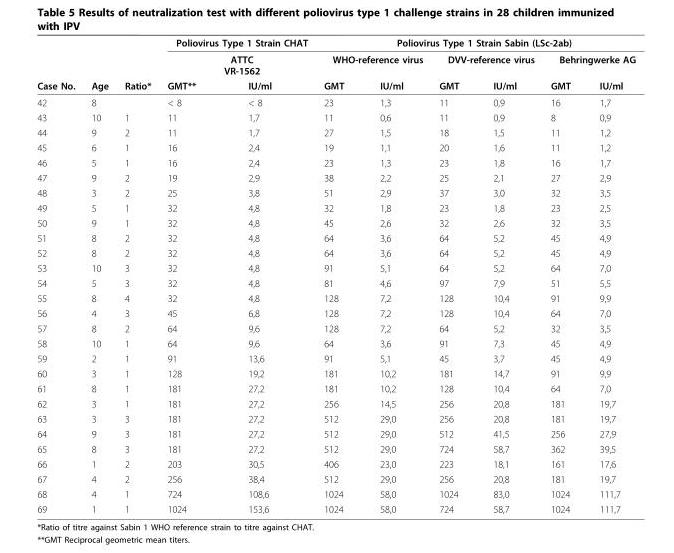table: (36, 36, 634, 514)
table column: (221, 36, 315, 514), (361, 36, 430, 514), (475, 36, 541, 514), (158, 36, 221, 514), (584, 36, 634, 514), (36, 36, 82, 514), (315, 36, 361, 514), (430, 36, 475, 514), (115, 36, 158, 514), (541, 36, 584, 514), (82, 36, 115, 514)
table column header: (36, 36, 634, 93)
table row: (36, 50, 634, 77), (36, 77, 634, 93), (36, 93, 634, 109), (36, 184, 634, 200), (36, 425, 634, 441), (36, 109, 634, 124), (36, 124, 634, 139), (36, 139, 634, 154), (36, 154, 634, 169), (36, 169, 634, 184), (36, 200, 634, 215), (36, 215, 634, 230), (36, 230, 634, 245), (36, 245, 634, 260), (36, 260, 634, 275), (36, 275, 634, 290), (36, 290, 634, 305), (36, 305, 634, 320), (36, 320, 634, 335), (36, 335, 634, 350), (36, 350, 634, 365), (36, 365, 634, 380), (36, 380, 634, 395), (36, 395, 634, 410), (36, 410, 634, 425), (36, 441, 634, 456), (36, 456, 634, 471), (36, 471, 634, 486), (36, 486, 634, 501), (36, 36, 634, 50), (36, 501, 634, 514)
table spanning cell: (158, 36, 315, 77), (315, 36, 634, 50), (315, 50, 430, 77), (430, 50, 541, 77), (36, 36, 82, 93), (541, 50, 634, 77), (115, 36, 158, 93), (82, 36, 115, 93)
